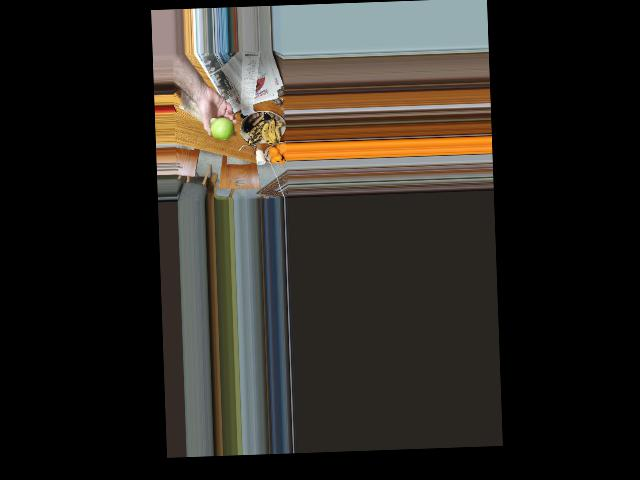apple: (207, 114, 234, 142)
